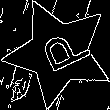P_SW: (27, 26, 90, 80)
